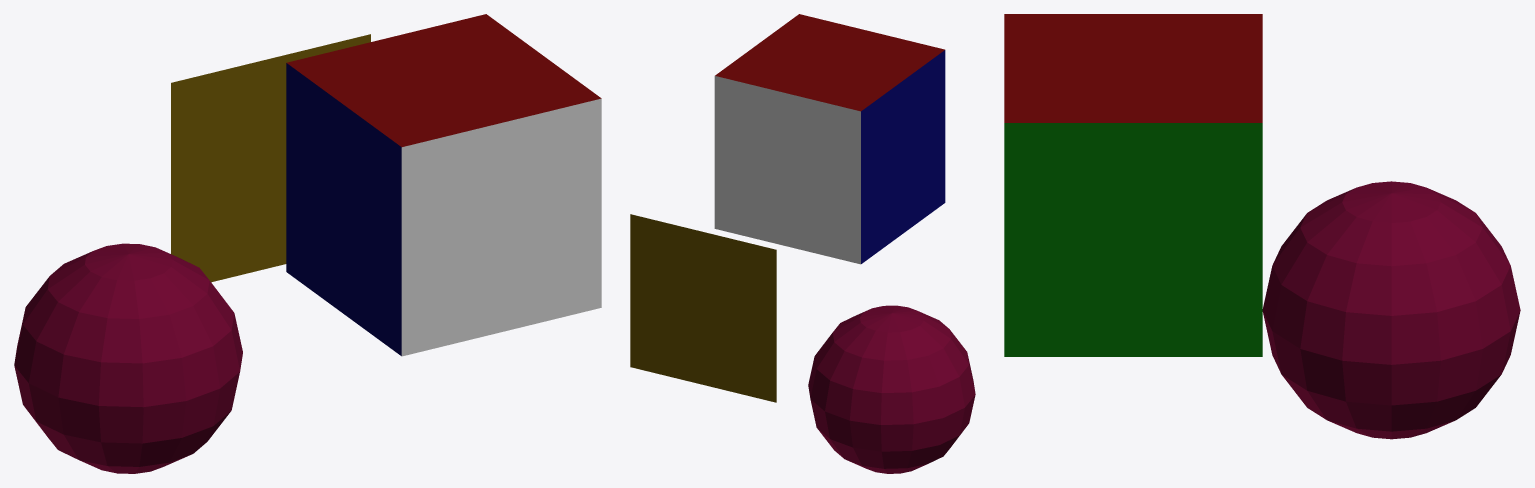
The picture shows the model from 3 angles, left to right: view 1: azimuth 30°, elevation 25°; view 2: azimuth 150°, elevation 25°; view 3: azimuth 270°, elevation 25°; orthographic projection. The views are drawn at different scales.
Visible parts, largest first — view 1: front_face, Sphere, left_face, Plane, top_face; view 2: Plane, cube, Sphere, left_face, top_face; view 3: right_face, Sphere, top_face.
Boxes of the visible parts, box(x1,y1,x2,y2) form: front_face: box(401, 98, 601, 356); Sphere: box(14, 243, 242, 473); left_face: box(286, 63, 401, 355); Plane: box(171, 34, 370, 282); top_face: box(286, 14, 601, 146); Plane: box(630, 214, 776, 402); cube: box(714, 76, 860, 264); Sphere: box(808, 305, 975, 473); left_face: box(861, 50, 945, 263); top_face: box(715, 14, 944, 111); right_face: box(1004, 123, 1262, 356); Sphere: box(1262, 181, 1520, 439); top_face: box(1004, 14, 1262, 122).
Size of what is drawn, in the model's own units: 2 by 2 by 2.
